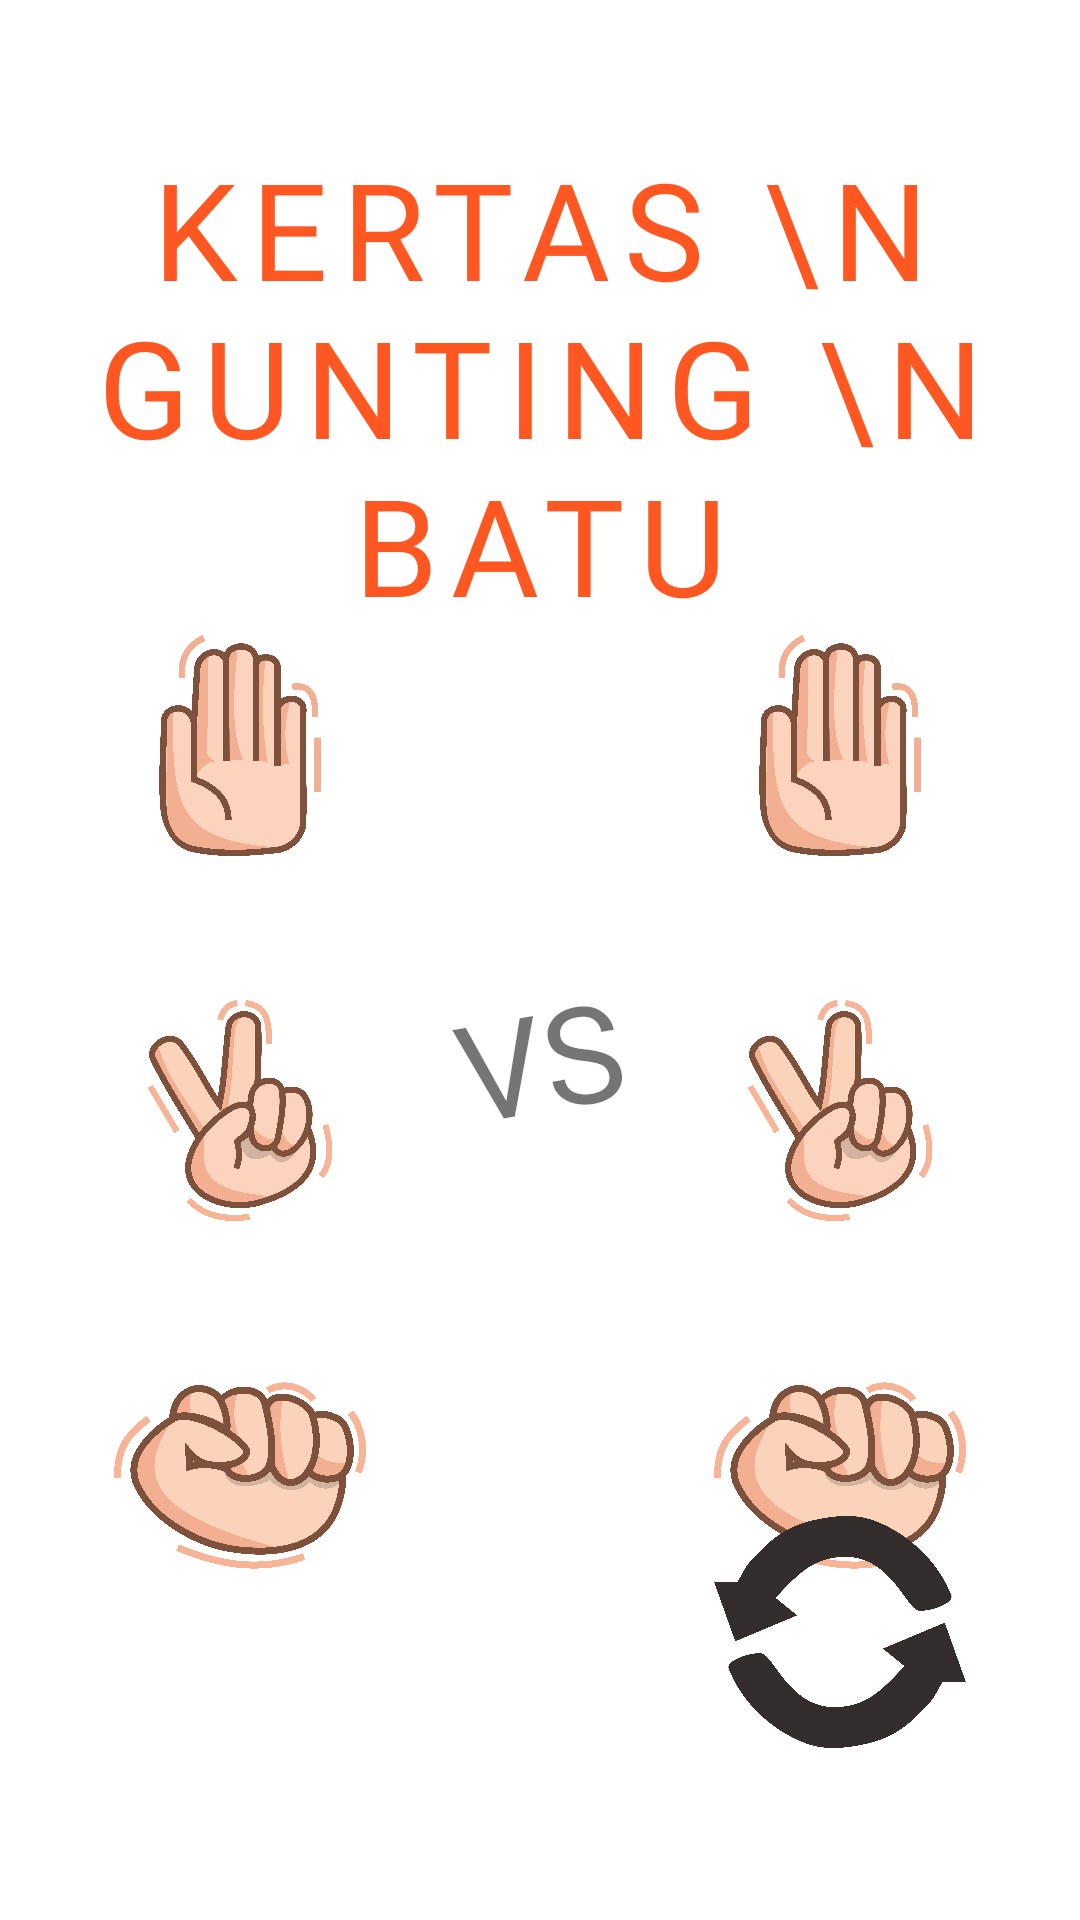

Where to tap for icons on this 1080 x 1920 app screen, as [x,y]:
hand paper image: [240,745], [840,745]
hand scissor image: [240,1110], [840,1110]
Refresh button: [840,1627]
